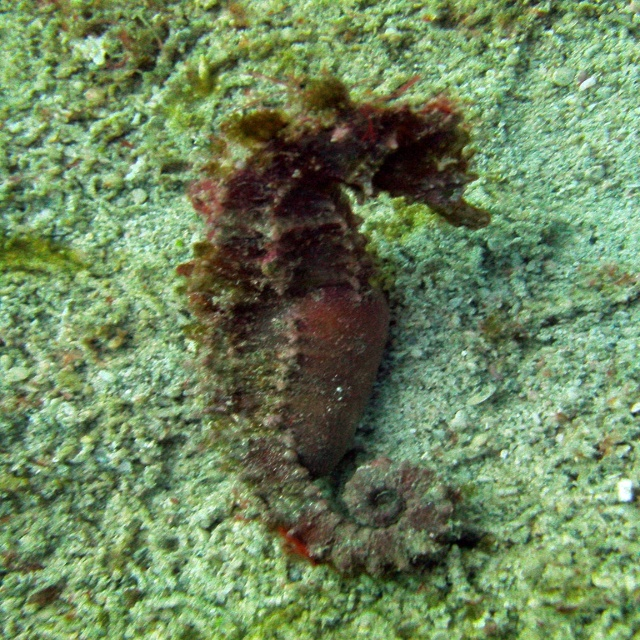Seahorse: (173, 61, 492, 581)
